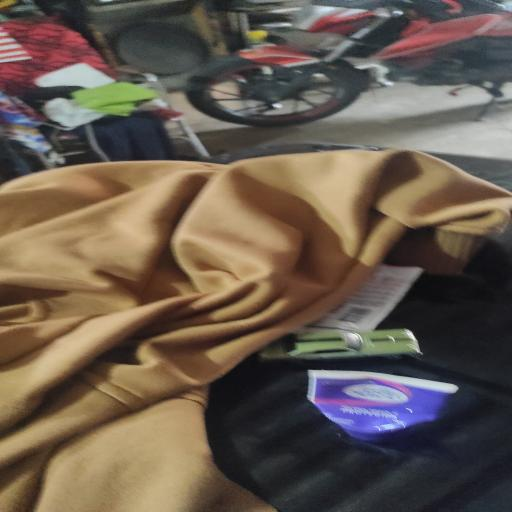Carrito: (260, 328, 421, 360)
